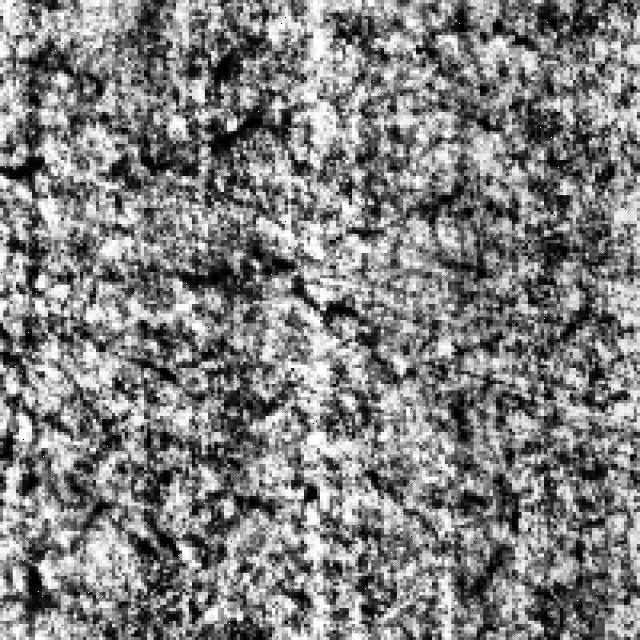Pitted_Surface: (163, 182, 586, 365), (83, 454, 528, 576), (10, 48, 352, 176)
